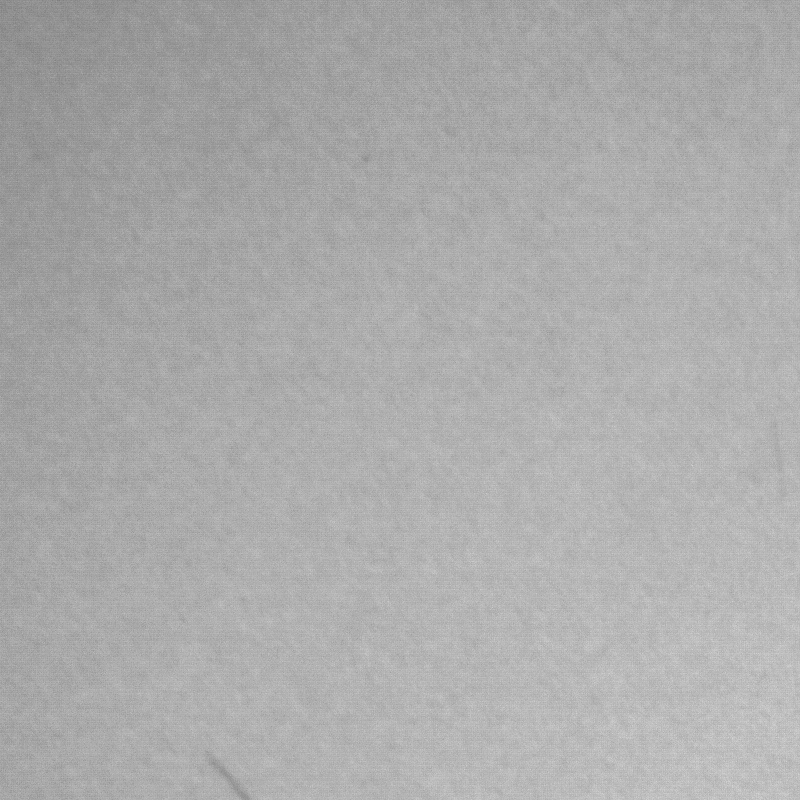defect: (764, 411, 796, 513), (206, 753, 251, 800)
